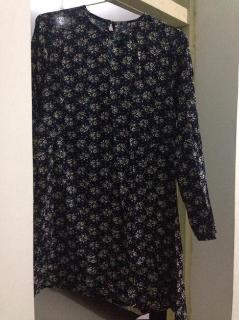long sleeve dress: (16, 6, 217, 319)
